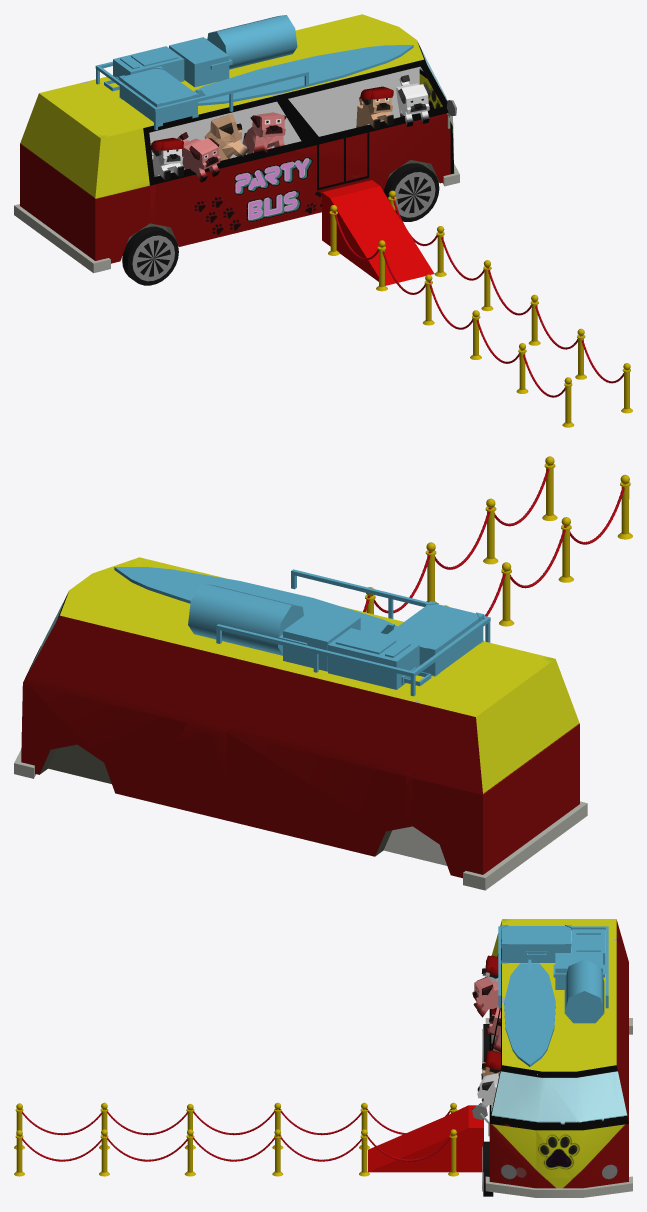
The model's file is Bus New.FBX.
3 renders of one model, top to bottom at view 1: azimuth 30°, elevation 25°; view 2: azimuth 150°, elevation 25°; view 3: azimuth 270°, elevation 25°, orthographic. The views are drawn at different scales.
Parts seen in each view (by area): view 1: New Bus, scp_sb_car_01_luggage, Box001, Box002, Wheel, Wheel001, RIGGEDPUG_Newest:Pug001, Pug Pose 2, Pug Pose 003, RIGGEDPUG_Newest:Pug, Spinner_Wheel, Spinner_Wheel001 (+2 smaller); view 2: New Bus, scp_sb_car_01_luggage; view 3: New Bus, scp_sb_car_01_luggage, Box001, Pug Pose 2, Pug Pose 003, RIGGEDPUG_Newest:Pug001.
Boxes of the visible parts, x1,y1,x2,y2 form: New Bus: (14,14,459,273); scp_sb_car_01_luggage: (95,15,413,130); Box001: (322,180,434,285); Box002: (149,45,419,175); Wheel: (122,226,178,285); Wheel001: (383,163,439,221); RIGGEDPUG_Newest:Pug001: (242,112,286,154); Pug Pose 2: (177,132,220,182); Pug Pose 003: (396,75,430,126); RIGGEDPUG_Newest:Pug: (204,114,249,160); Spinner_Wheel: (132,235,174,281); Spinner_Wheel001: (394,172,435,217); New Bus: (14,557,587,890); scp_sb_car_01_luggage: (114,567,490,696); New Bus: (472,919,632,1197); scp_sb_car_01_luggage: (498,925,608,1066); Box001: (368,1105,483,1172); Pug Pose 2: (472,976,498,1017); Pug Pose 003: (477,1073,498,1107); RIGGEDPUG_Newest:Pug001: (486,1006,500,1051).
Size of what is drawn, in the model's own units: 370 by 171 by 563.
Materials: 11 (4 with a texture image).
